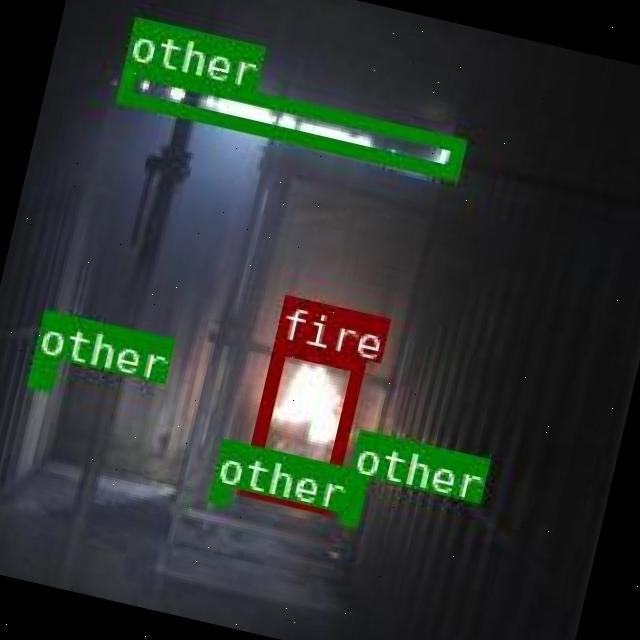fire: (238, 338, 364, 511)
